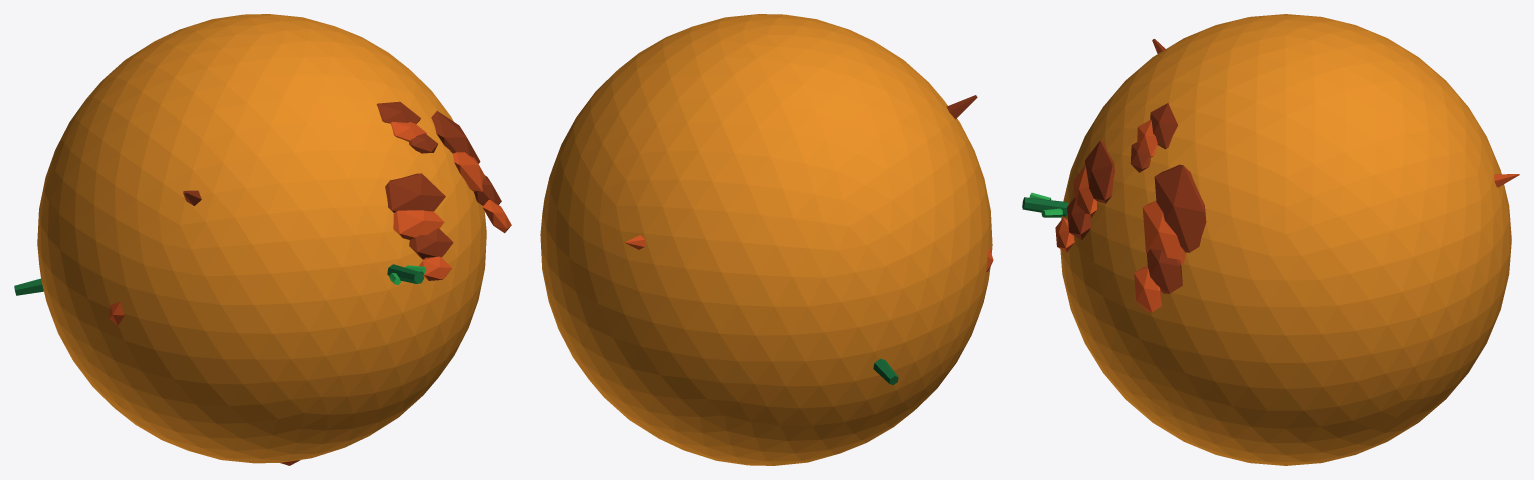
The model's file is Desert_04.fbx.
3 renders of one model, left to right at view 1: azimuth 30°, elevation 25°; view 2: azimuth 150°, elevation 25°; view 3: azimuth 270°, elevation 25°, orthographic.
Parts seen in each view (by area): view 1: Desert_04; view 2: Desert_04; view 3: Desert_04.
Boxes of the visible parts, x1,y1,x2,y2 form: Desert_04: (14,14,511,465); Desert_04: (540,14,993,465); Desert_04: (1022,14,1519,465).
Size of the model in its own units: 6 by 6 by 6.6.
Materials: 1 (1 with a texture image).
